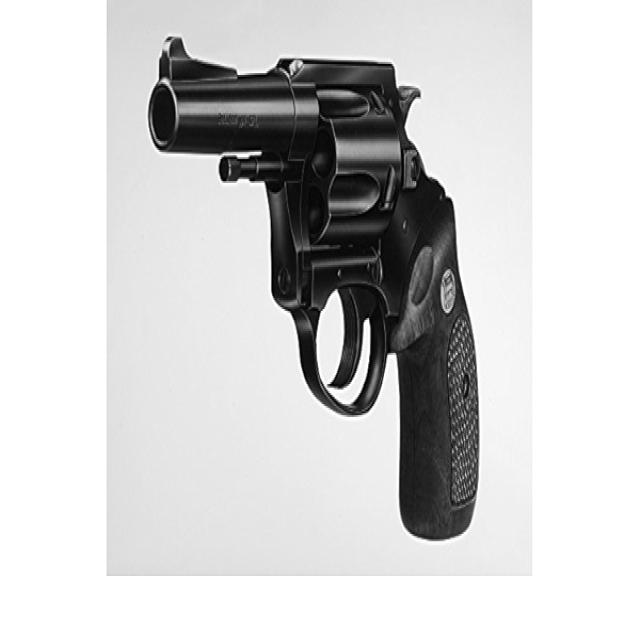Gun: (129, 21, 495, 546)
